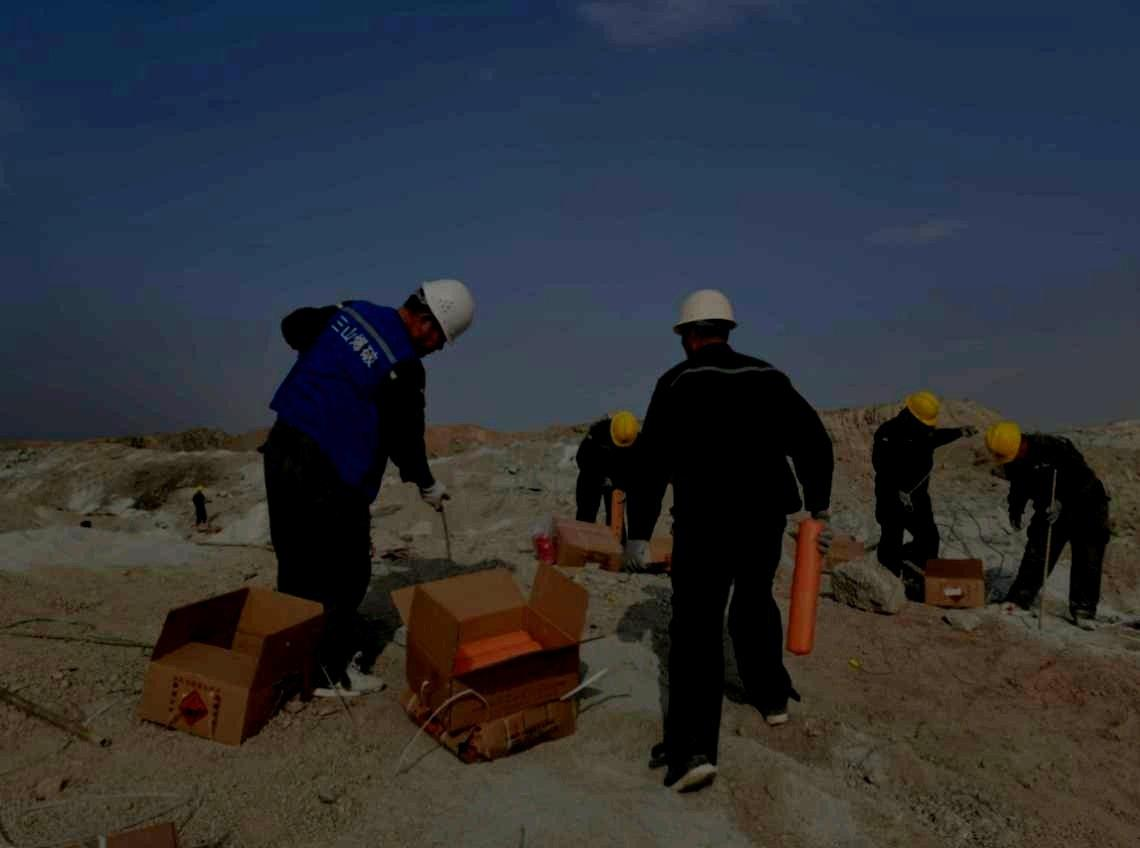helmet: (397, 277, 477, 358), (672, 288, 739, 361), (983, 419, 1028, 467), (903, 391, 941, 434), (610, 409, 639, 447)
